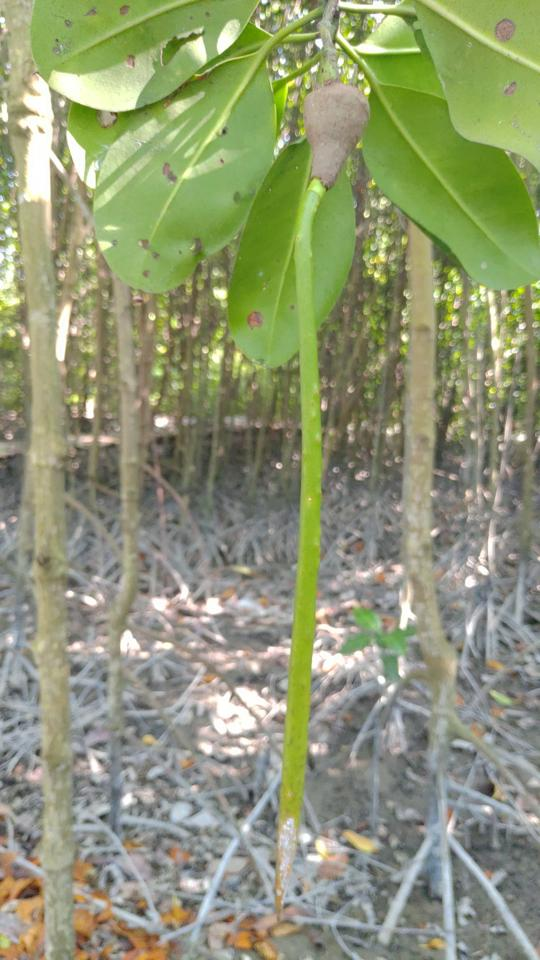setengah matang: (255, 62, 395, 938)
